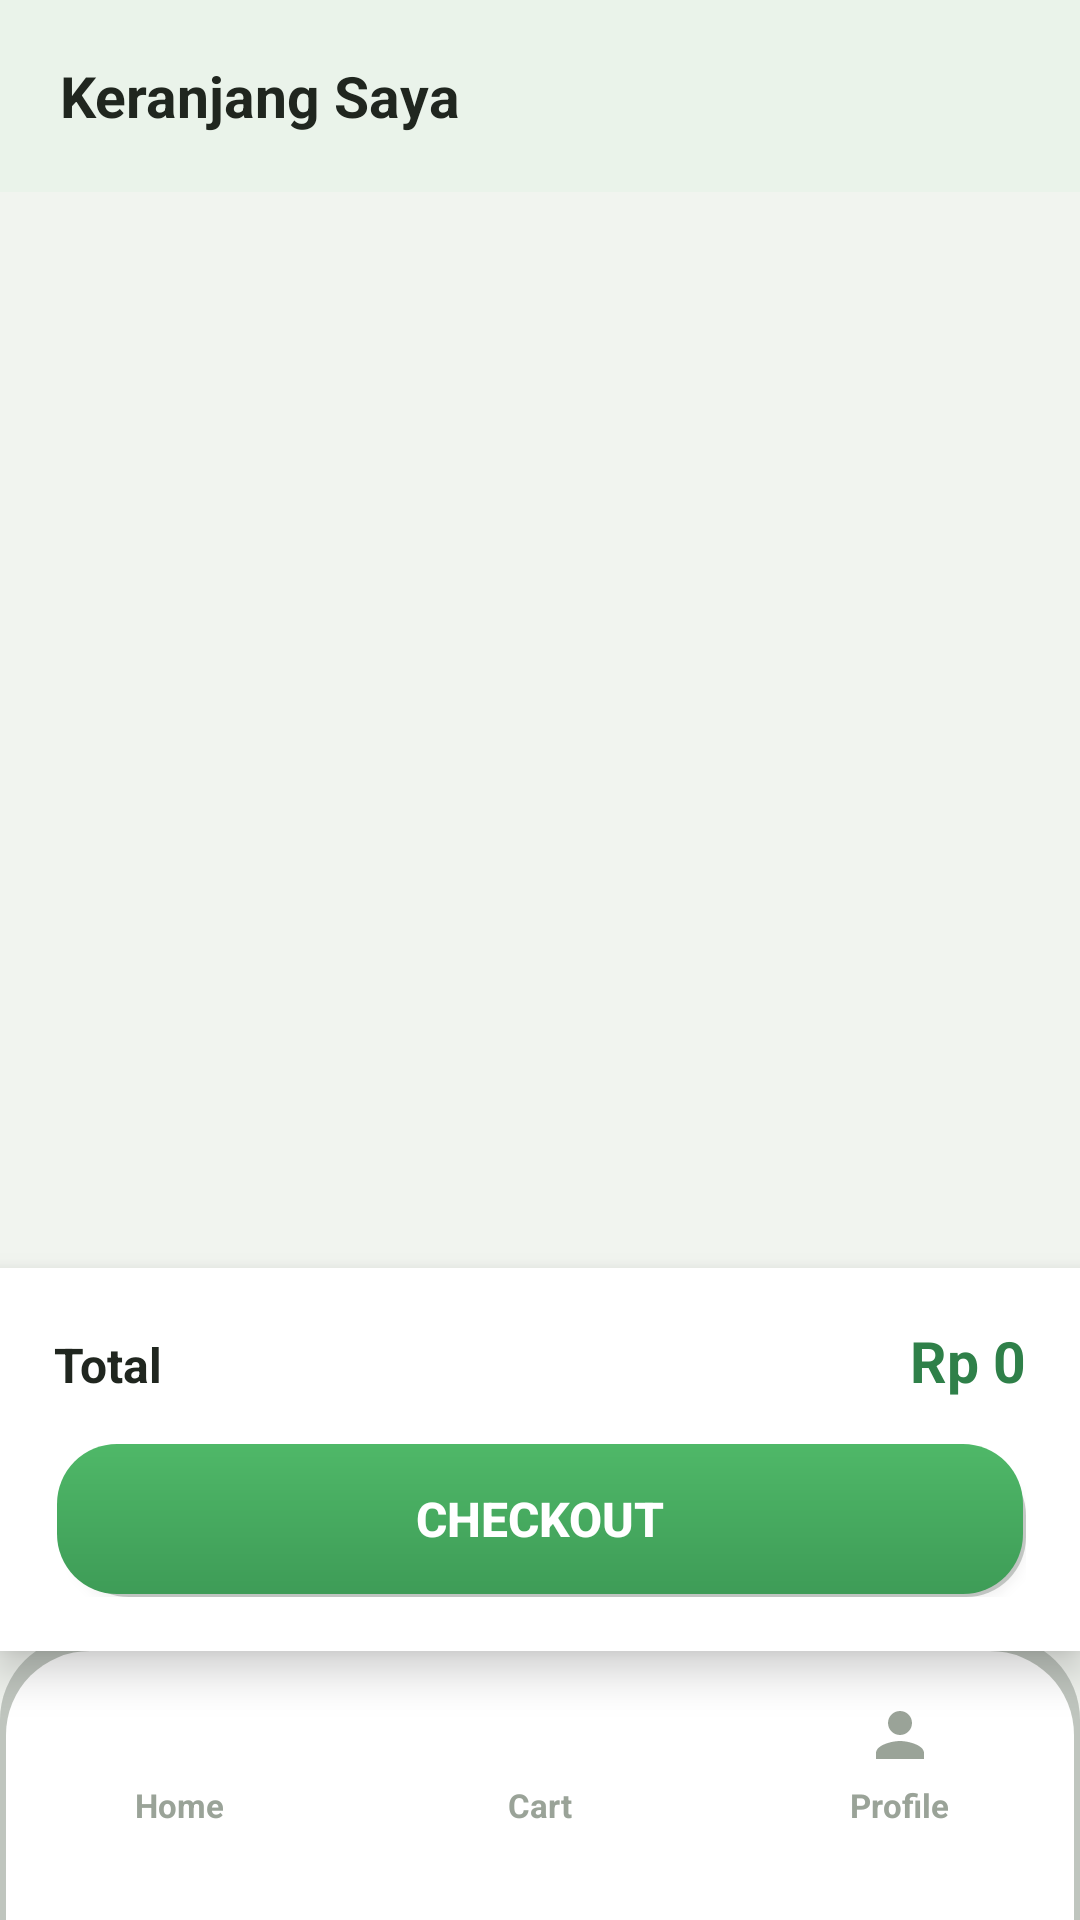

Where icons sit on this 1080w x 1920h app screen, as (x1, y1, x2, y2):
person: (876, 1711, 924, 1759)
